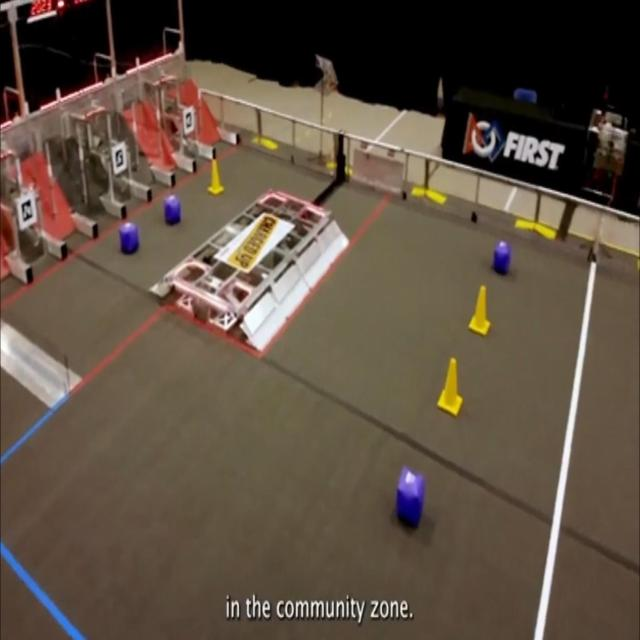frc_cone: (437, 358, 462, 417), (468, 285, 491, 335), (207, 160, 223, 196)
frc_cube: (396, 465, 424, 529), (120, 221, 140, 256), (492, 241, 511, 275), (164, 194, 181, 226)
